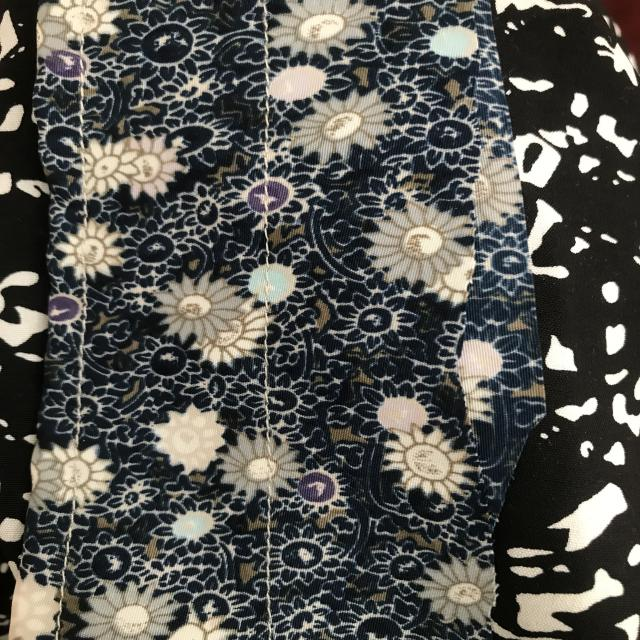good: (258, 516, 287, 626), (255, 336, 286, 428)
